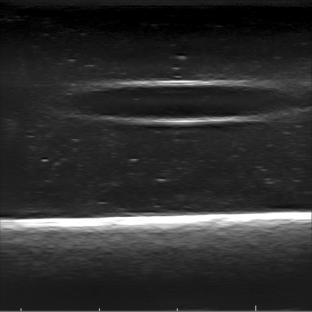vessel: (72, 78, 296, 126)
